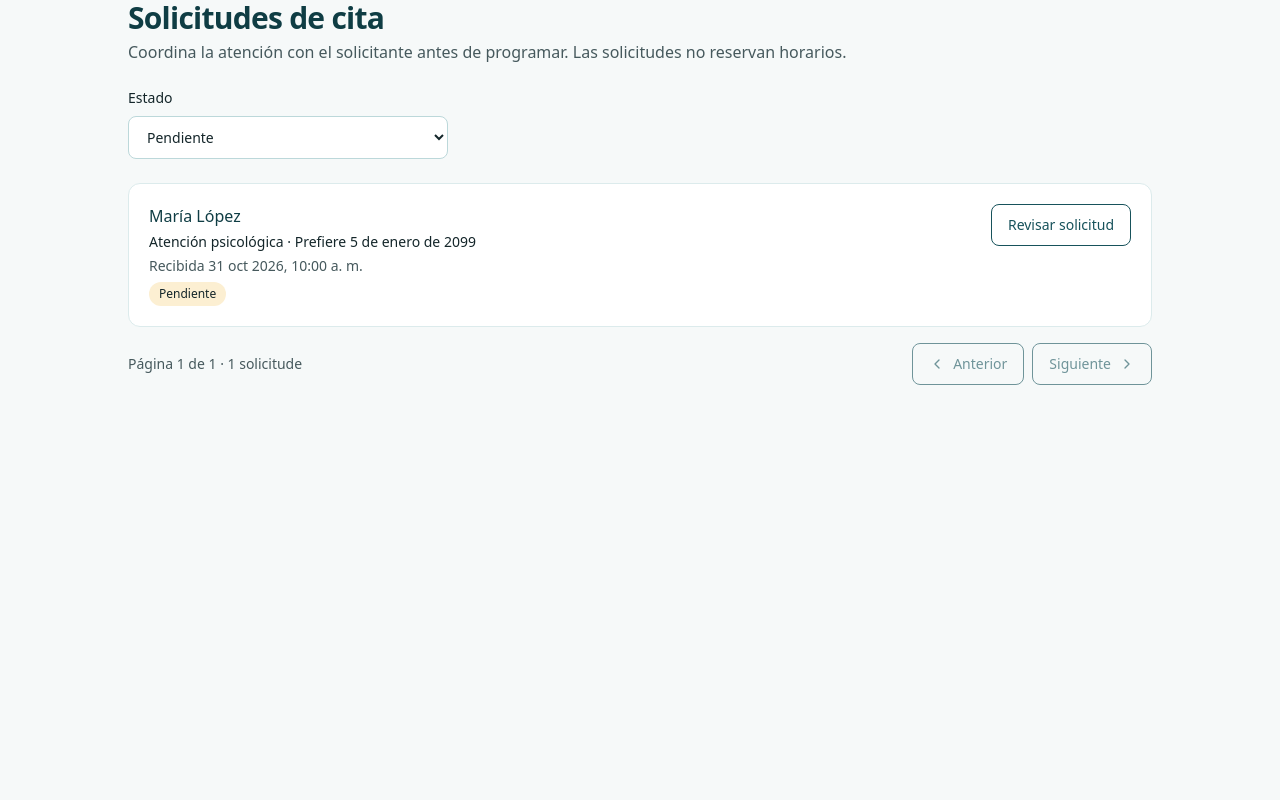
Test: Solicitudes administrativas › explica por que un servicio inactivo no puede convertirse
The width and height of the screenshot is (1280, 800).
Click the button with aria-label "Revisar solicitud de María López". click: (1061, 225)
box: [991,204,1131,246]
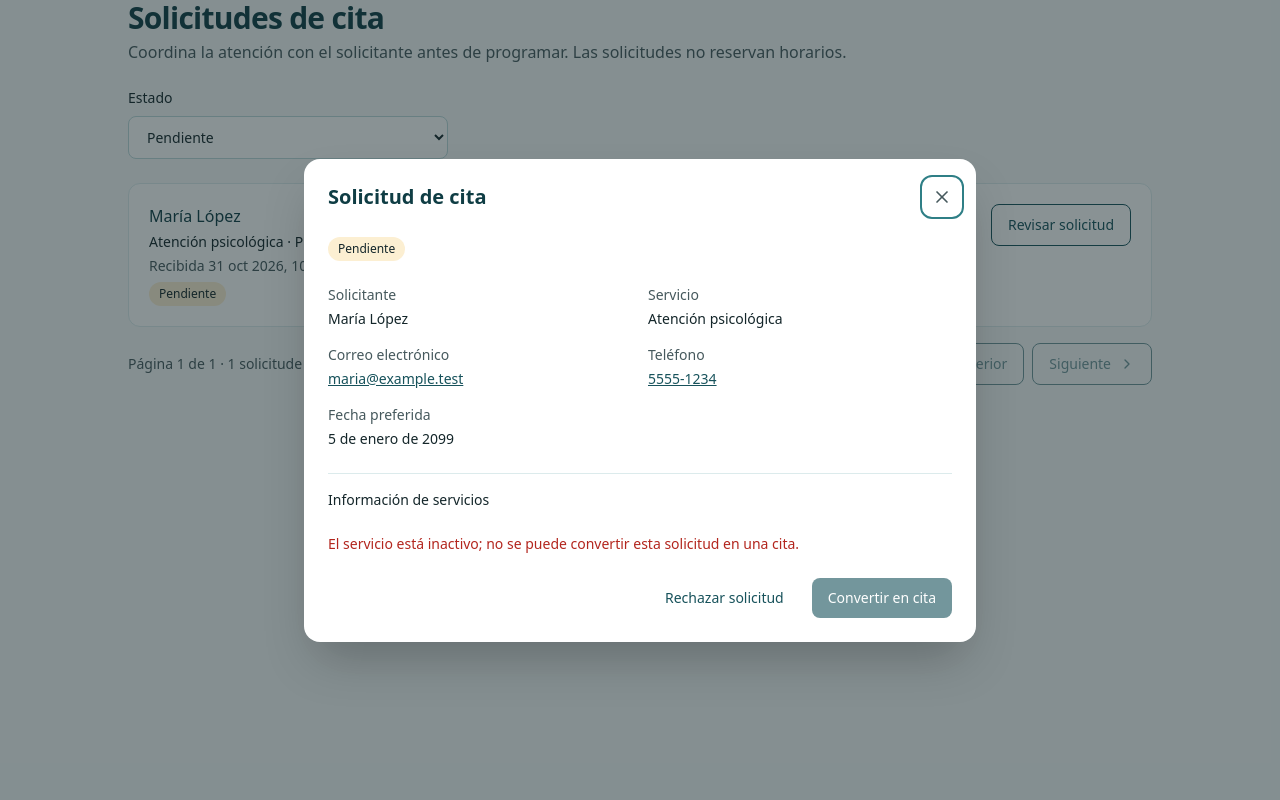
Result: the message shows "El servicio está inactivo" at [328,534,799,552]
Result: the button "Convertir en cita" is disabled at [812,578,952,618]
